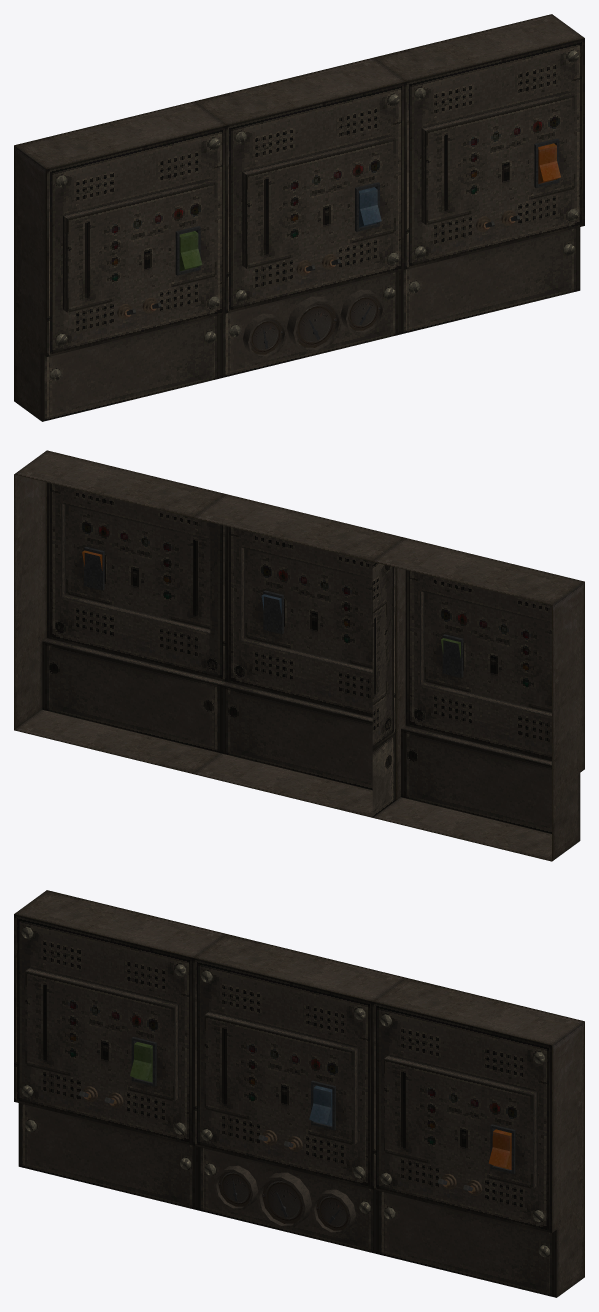
The model's file is panel_etx_2_1.glb.
3 renders of one model, top to bottom at view 1: azimuth 30°, elevation 25°; view 2: azimuth 150°, elevation 25°; view 3: azimuth 330°, elevation 25°, orthographic.
Visible parts, largest first — view 1: panel_etx_2_1; view 2: panel_etx_2_1; view 3: panel_etx_2_1.
Part boxes in pixels (box(x1,y1,x2,y2)): panel_etx_2_1: box(14, 14, 584, 421); panel_etx_2_1: box(14, 450, 584, 861); panel_etx_2_1: box(14, 890, 584, 1297).
Bounding box in the file's own units: 1.32 × 0.6 × 0.1866.
Materials: 2 (2 with a texture image).
